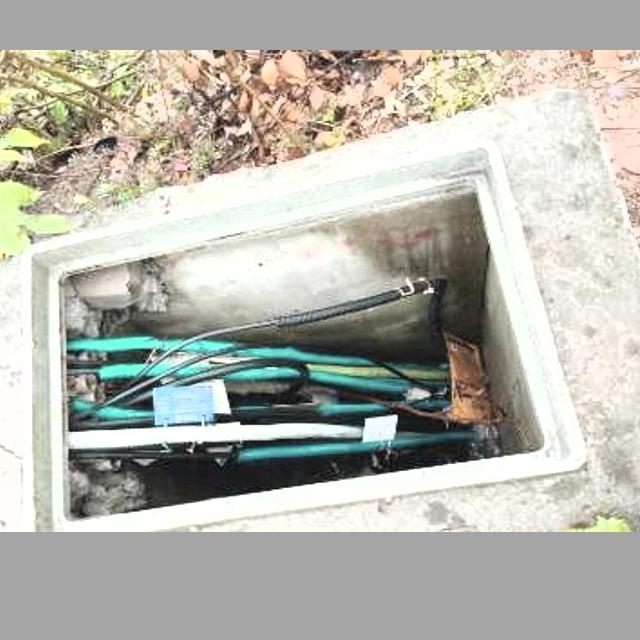lose: (22, 139, 588, 532)
